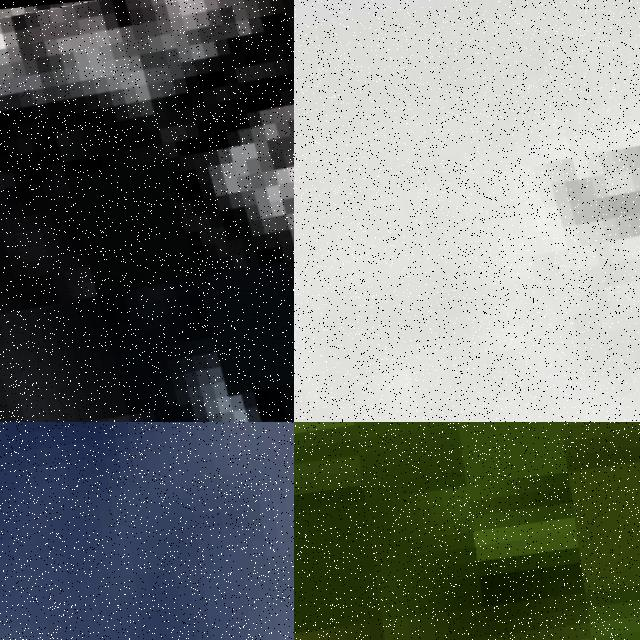0: (0, 0, 294, 422)
drone: (294, 0, 640, 422)
